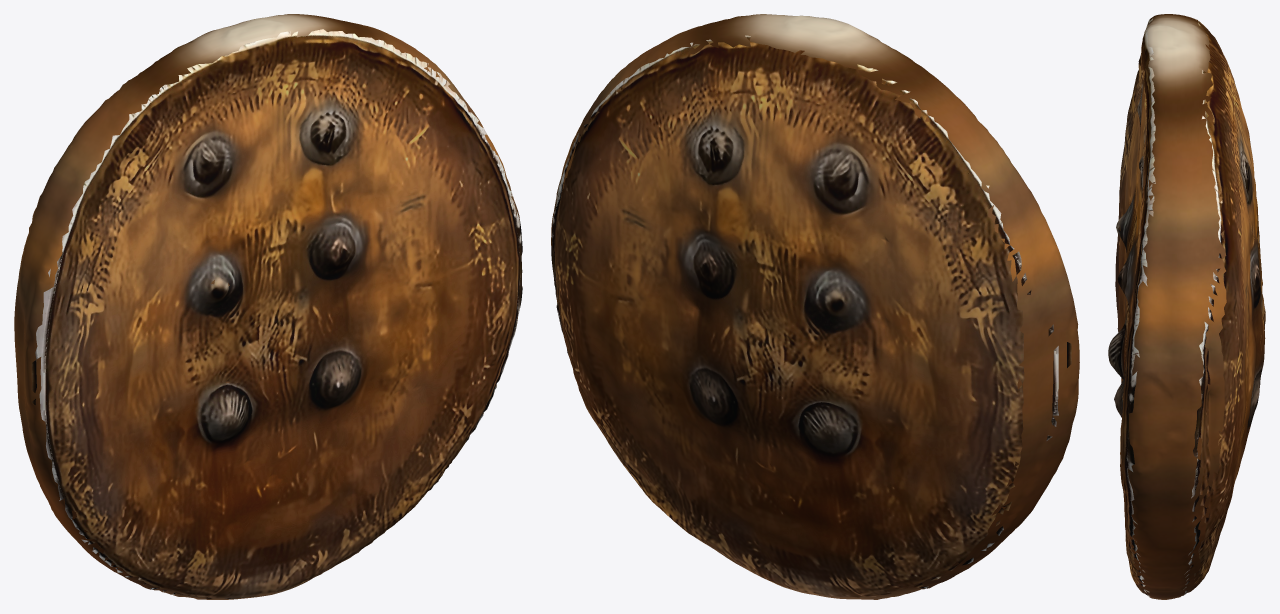
The model's file is kfl-2130.glb.
3 views of the same model, side by side, from view 1: azimuth 30°, elevation 25°; view 2: azimuth 150°, elevation 25°; view 3: azimuth 270°, elevation 25° (orthographic). The views are drawn at different scales.
Visible parts, largest first — view 1: kfl-2130; view 2: kfl-2130; view 3: kfl-2130.
Boxes of the visible parts, bbox=[...] form: kfl-2130: bbox=[14, 14, 522, 599]; kfl-2130: bbox=[551, 14, 1079, 599]; kfl-2130: bbox=[1108, 14, 1265, 599].
Bounding box in the file's own units: 0.9121 × 0.993 × 0.2622.
Materials: 4 (4 with a texture image).
